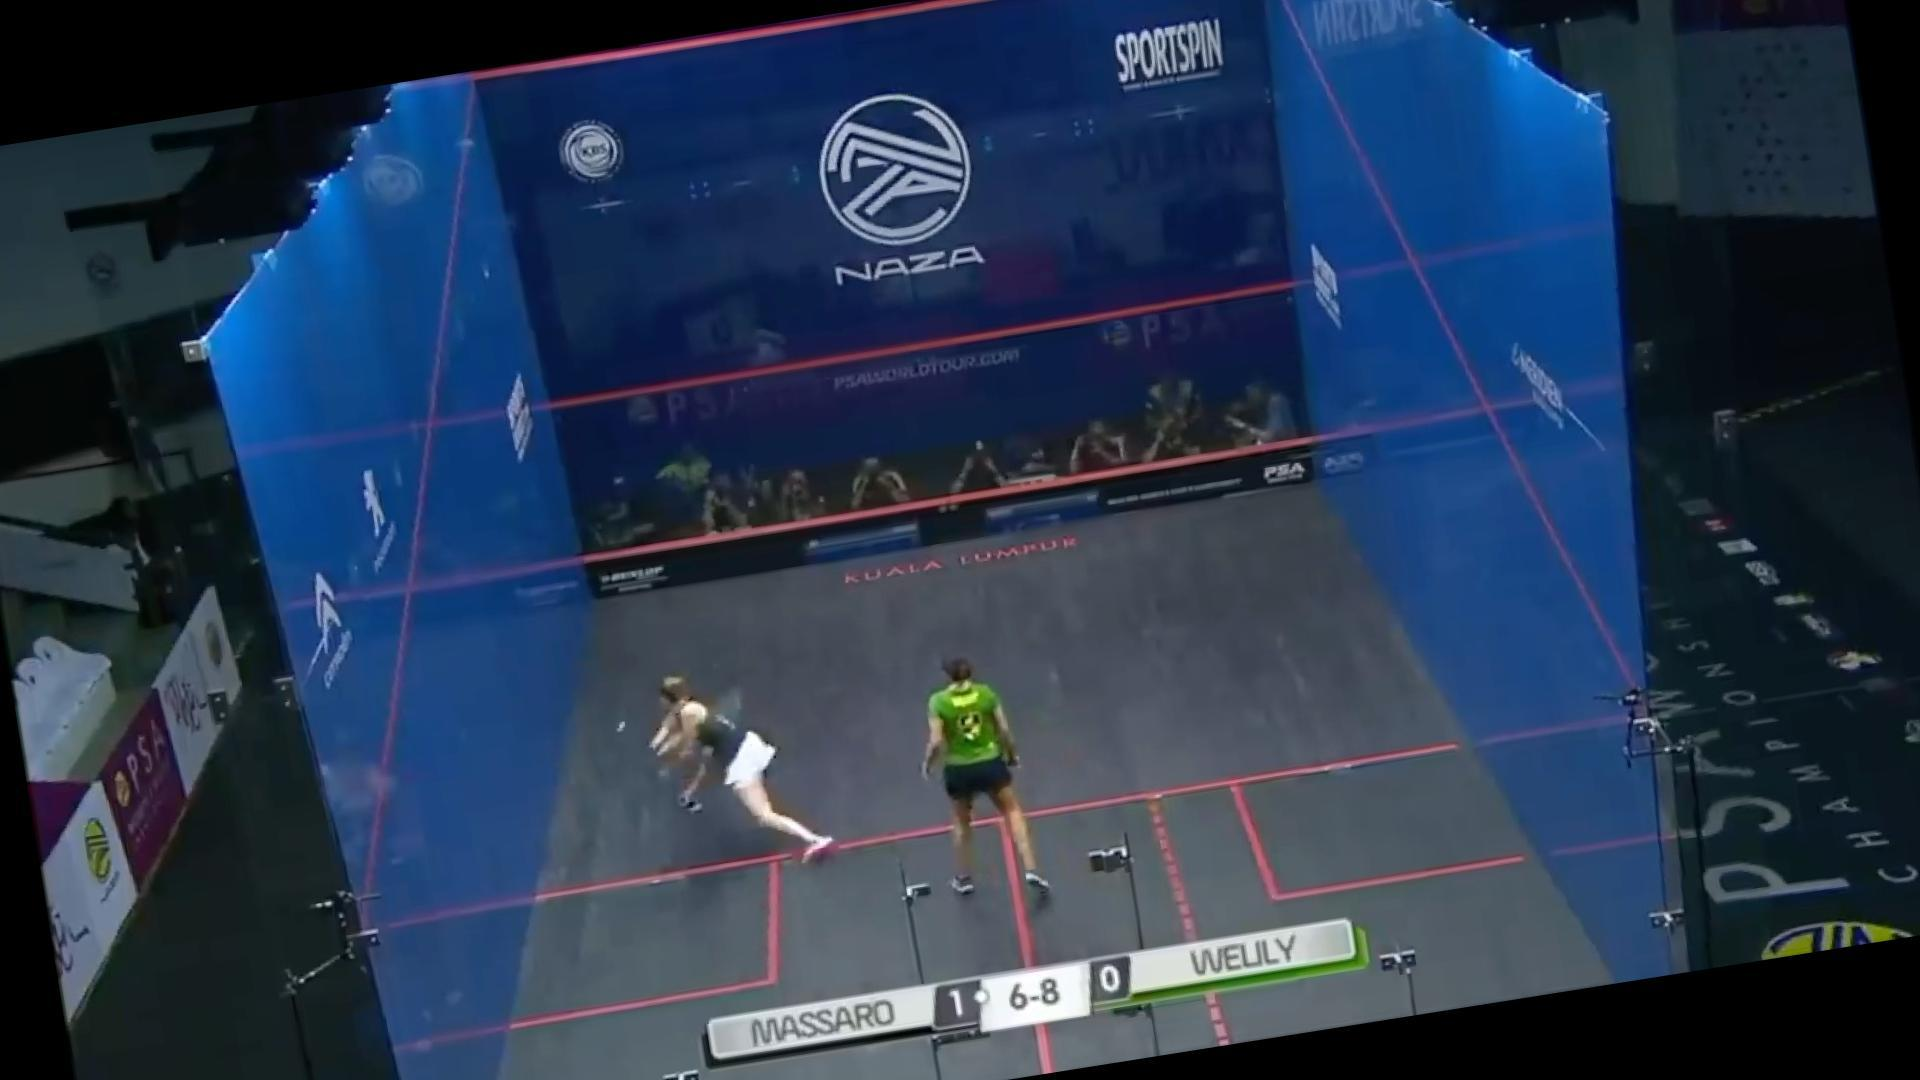Squash-Ball: (600, 703, 641, 748)
